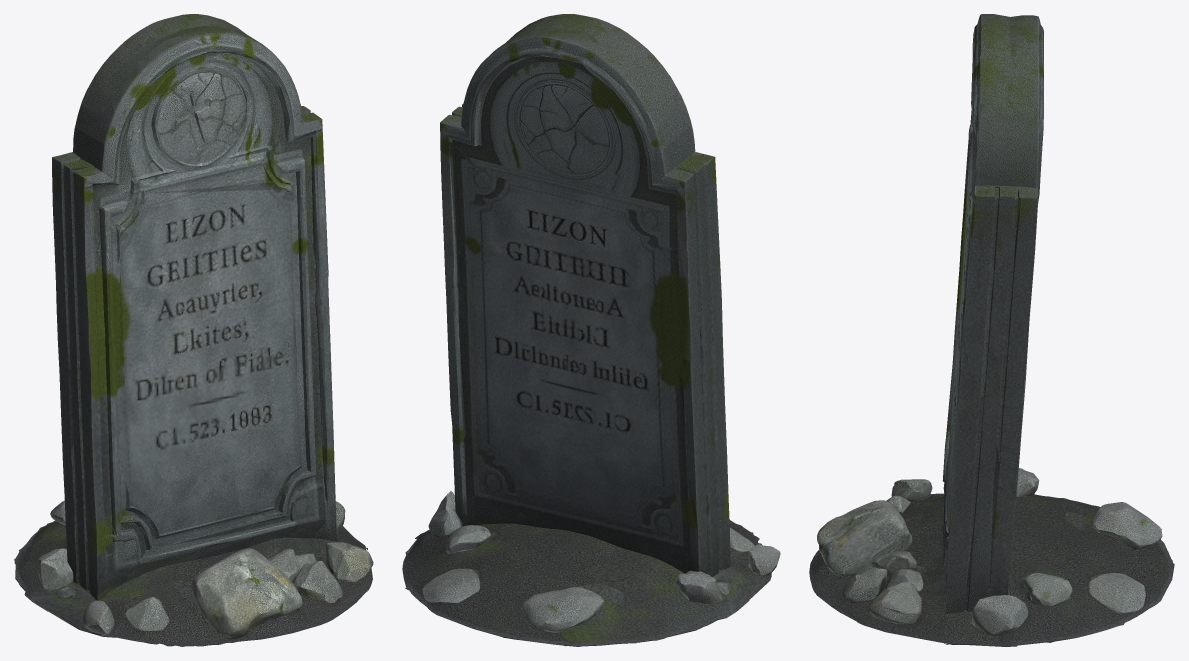
The model's file is Meshy_AI_Decor_gravestone_01a0e9ed_texture.glb.
3 renders of one model, left to right at view 1: azimuth 30°, elevation 25°; view 2: azimuth 150°, elevation 25°; view 3: azimuth 270°, elevation 25°, orthographic.
Size of the model in its own units: 1.15 by 1.9 by 1.15.
Materials: 1 (1 with a texture image).
